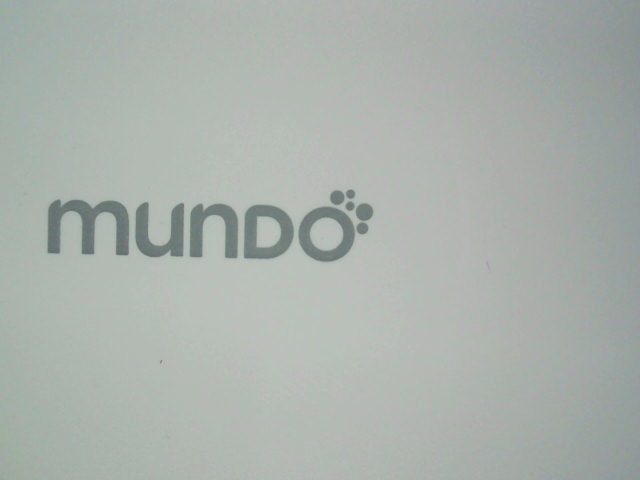BI_MUNDO: (31, 169, 392, 286)
